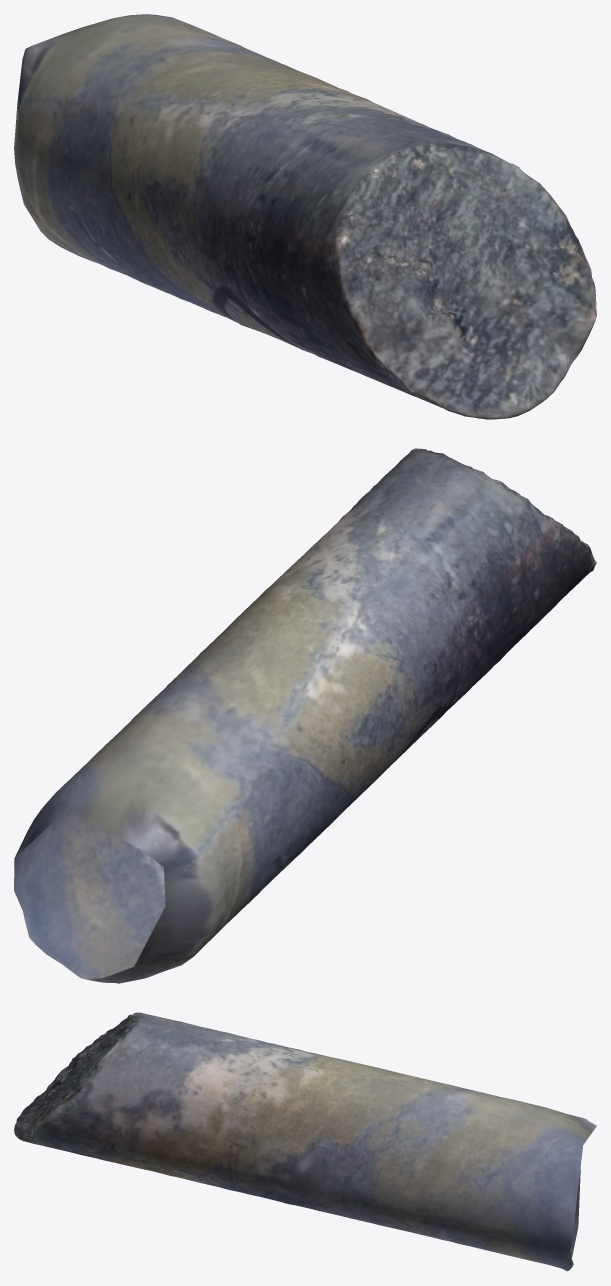
File: PECLD07756 T1.glb
3 views of the same model, one above another, from view 1: azimuth 30°, elevation 25°; view 2: azimuth 150°, elevation 25°; view 3: azimuth 270°, elevation 25° (orthographic). The views are drawn at different scales.
Visible parts, largest first — view 1: baked_mesh; view 2: baked_mesh; view 3: baked_mesh.
Part boxes in pixels (x1,y1,x2,y2): baked_mesh: [14, 14, 596, 419]; baked_mesh: [14, 448, 596, 983]; baked_mesh: [14, 1012, 596, 1271].
Size of the model in its own units: 0.2207 by 0.289 by 0.6711.
Materials: 1 (1 with a texture image).
